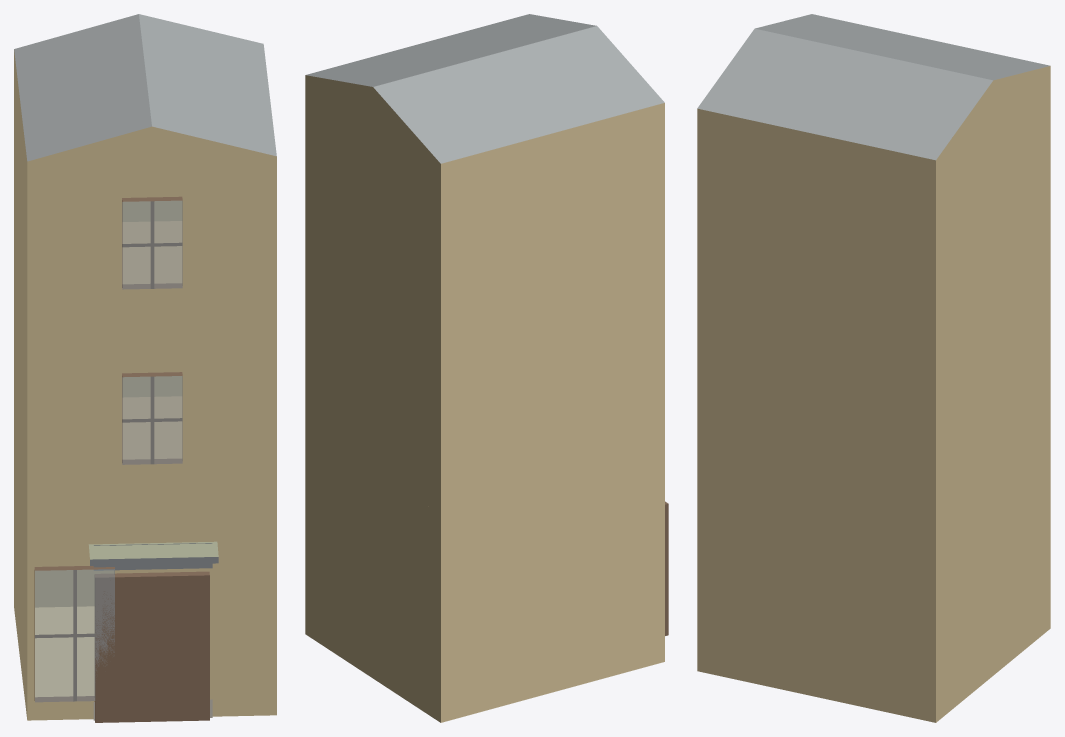
The model's file is N-40-42.south_three_storey_vitrine.glb.
3 views of the same model, side by side, from view 1: azimuth 30°, elevation 25°; view 2: azimuth 150°, elevation 25°; view 3: azimuth 270°, elevation 25° (orthographic).
Visible parts, largest first — view 1: N-40-42.south_three_storey_vitrine; view 2: N-40-42.south_three_storey_vitrine; view 3: N-40-42.south_three_storey_vitrine.
Boxes of the visible parts, x1,y1,x2,y2 form: N-40-42.south_three_storey_vitrine: [14, 14, 276, 722]; N-40-42.south_three_storey_vitrine: [305, 14, 668, 722]; N-40-42.south_three_storey_vitrine: [697, 14, 1050, 722].
Size of the model in its own units: 5.69 by 10.79 by 5.81.
